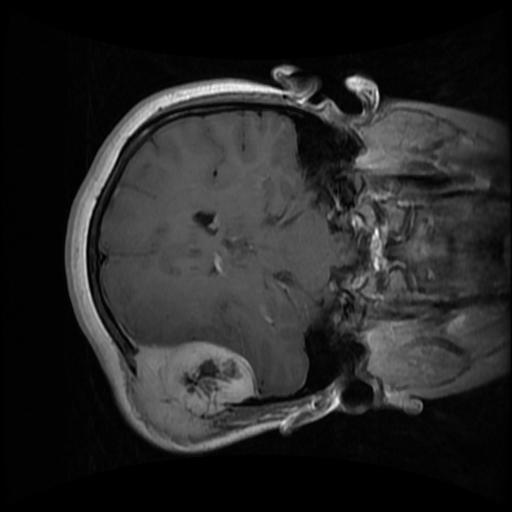meningioma: (130, 341, 255, 443)
